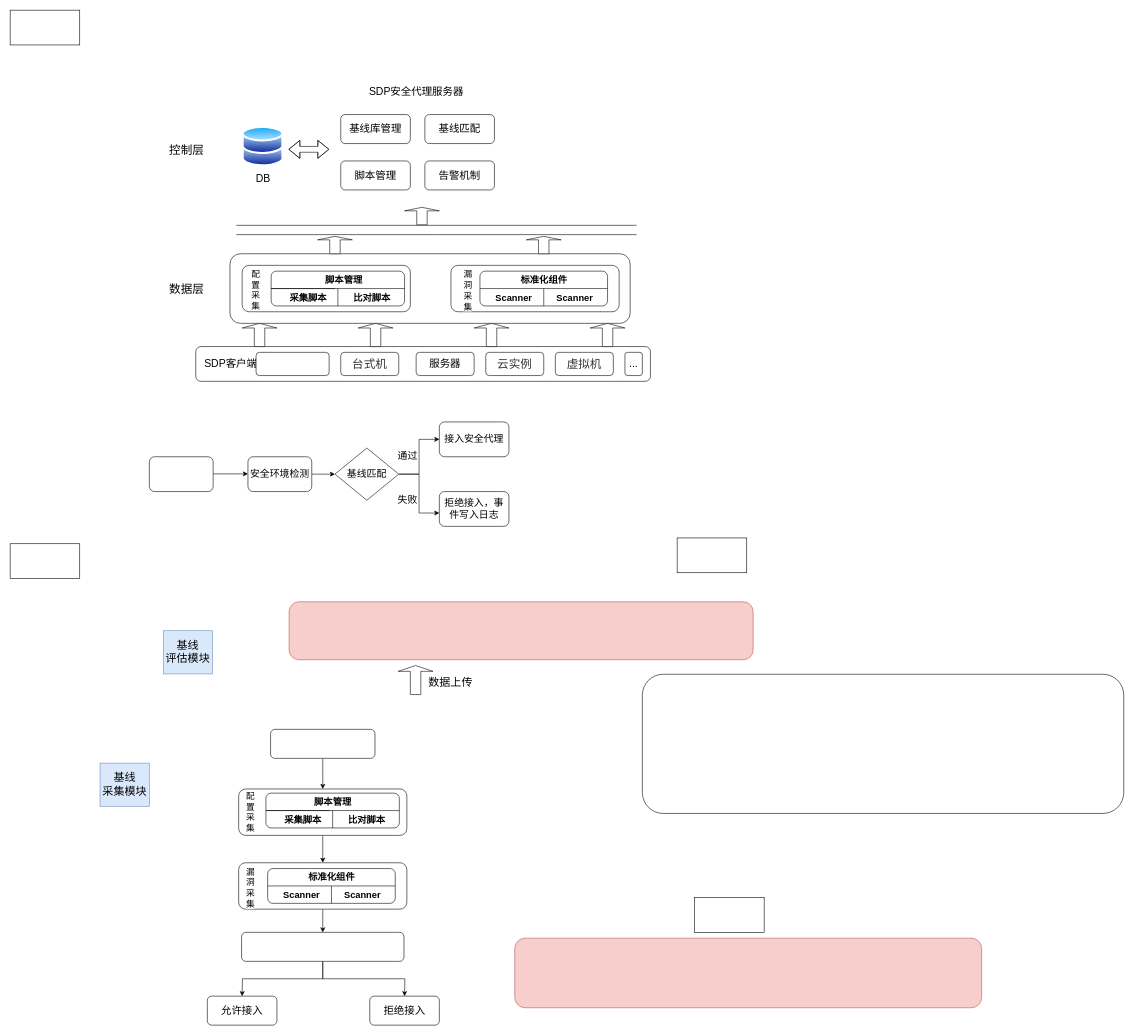
The diagram is 1134 pixels wide and 1035 high, and some of its shapes have lost their labels. The shapes that lost their labels are listed below. From the top down, each one's centre as x and y in pixels, then its label:
the point at 292,364: 笔记本电脑
the point at 181,474: 访问主体接入
the point at 322,743: 开始
the point at 322,946: 基线评估
